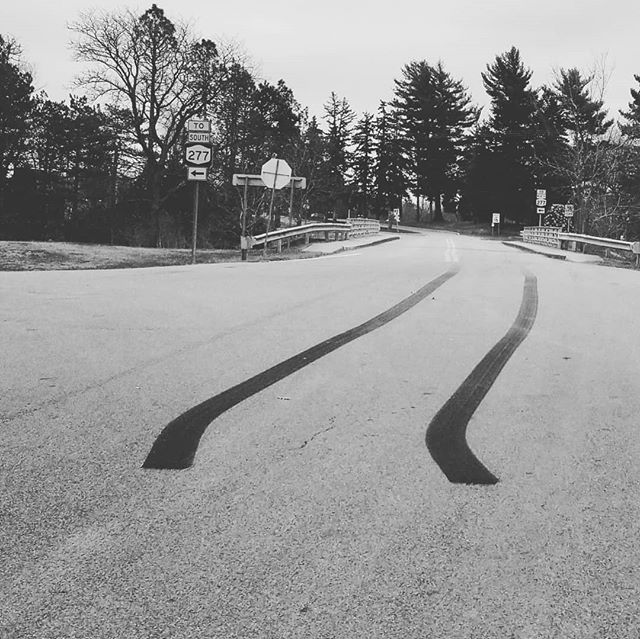sign: (178, 112, 216, 175)
sky: (1, 1, 629, 104)
street: (1, 259, 640, 639)
vegetation: (9, 92, 640, 244)
